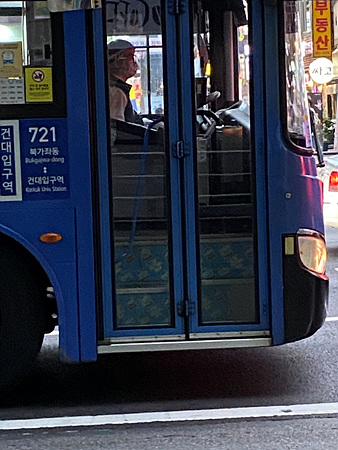entrance: (95, 3, 281, 350)
